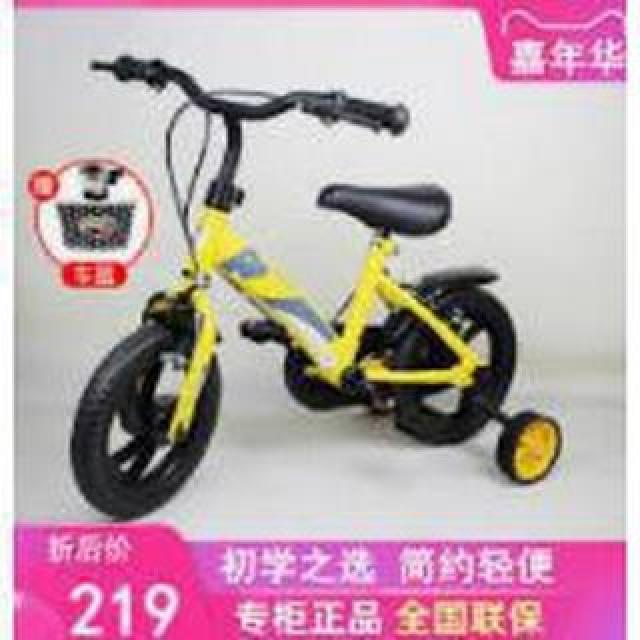Emergency Vehicles-Bike: (40, 52, 554, 554)
Person: (68, 50, 566, 516)
